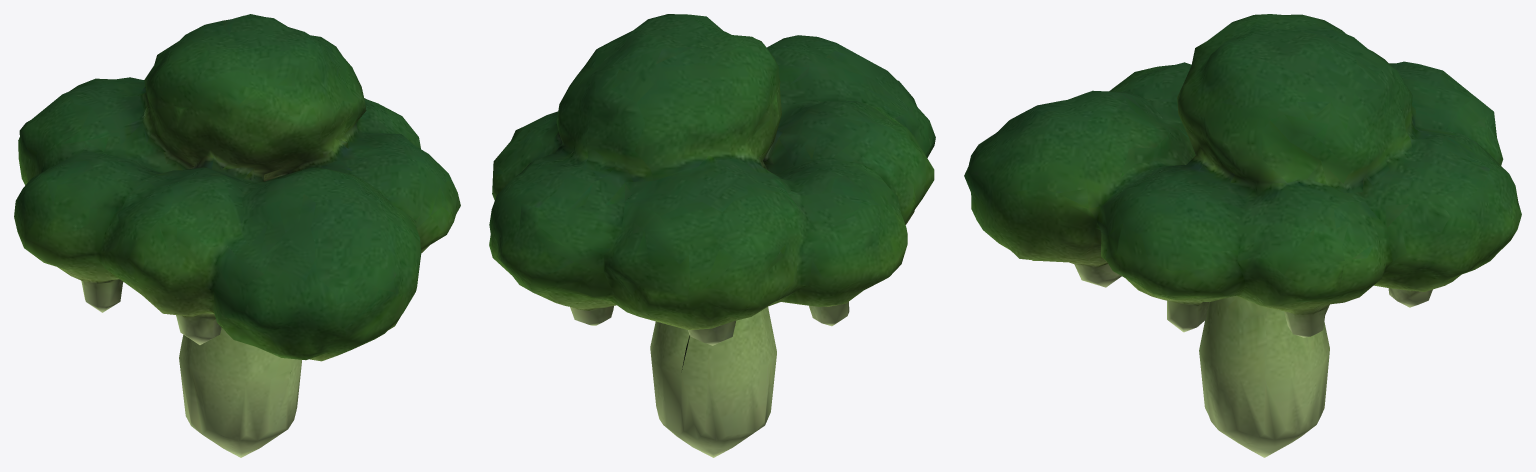
Rendered from broccoli.glb.
3 renders of one model, left to right at view 1: azimuth 30°, elevation 25°; view 2: azimuth 150°, elevation 25°; view 3: azimuth 270°, elevation 25°, orthographic. The views are drawn at different scales.
Parts seen in each view (by area): view 1: broccoli; view 2: broccoli; view 3: broccoli.
Part boxes in pixels (bbox=[...]): broccoli: bbox=[14, 14, 460, 457]; broccoli: bbox=[489, 14, 935, 457]; broccoli: bbox=[964, 14, 1521, 457].
Bounding box in the file's own units: 0.9771 × 1.01 × 1.18.
Materials: 1 (1 with a texture image).
